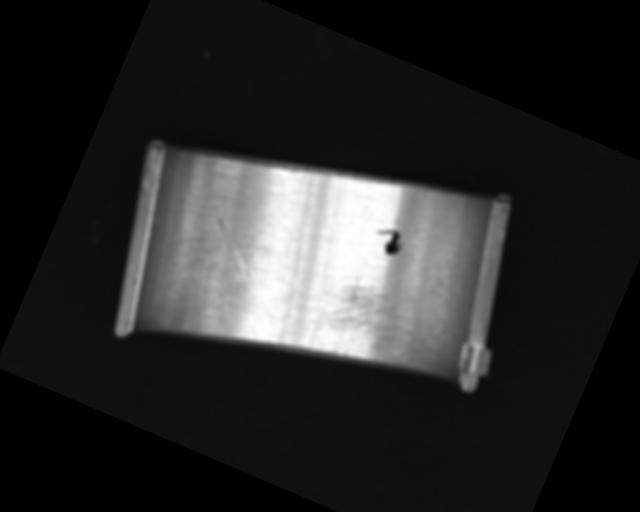blot: (370, 222, 407, 259)
nick: (259, 169, 344, 292), (150, 148, 223, 244), (201, 217, 264, 277), (217, 264, 253, 325)
scratch: (298, 264, 442, 389)
